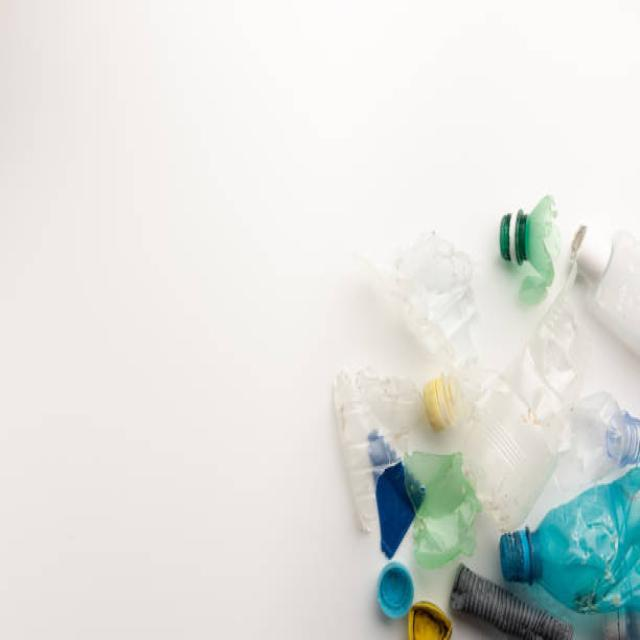plastic: (332, 171, 622, 623)
